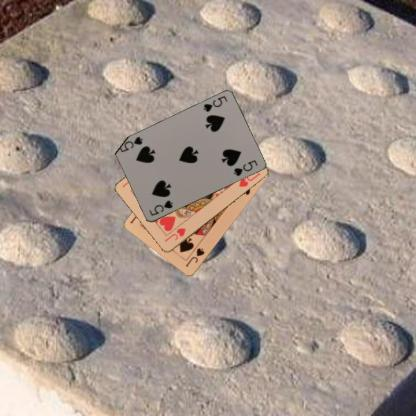5s: (146, 198, 174, 217), (201, 94, 228, 113)
Jh: (162, 226, 186, 244)
Js: (182, 246, 206, 268)
